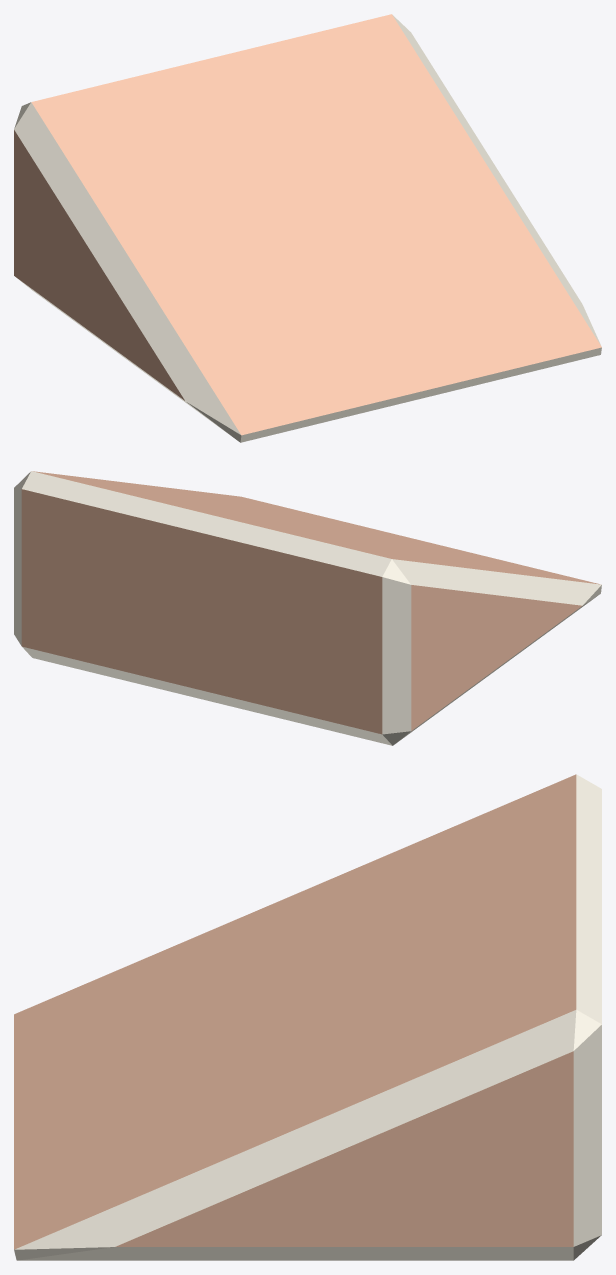
The model's file is R4B_HalfWedge.fbx.
3 views of the same model, one above another, from view 1: azimuth 30°, elevation 25°; view 2: azimuth 150°, elevation 25°; view 3: azimuth 270°, elevation 25° (orthographic). The views are drawn at different scales.
Parts seen in each view (by area): view 1: R4B_HalfWedge; view 2: R4B_HalfWedge; view 3: R4B_HalfWedge.
Part boxes in pixels (bbox=[...]): R4B_HalfWedge: bbox=[14, 14, 601, 442]; R4B_HalfWedge: bbox=[14, 471, 601, 745]; R4B_HalfWedge: bbox=[14, 774, 601, 1260].
Bounding box in the file's own units: 0.52 × 0.2348 × 0.4983.
